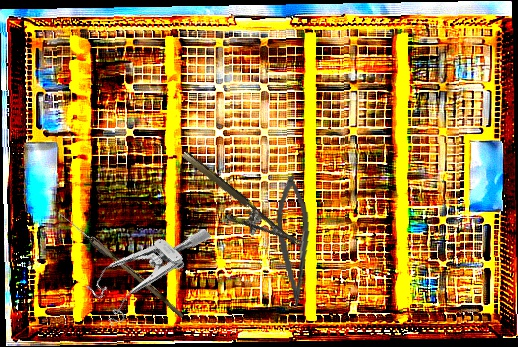Micro Scissor: (271, 173, 319, 310)
Needle Holder: (168, 149, 303, 265)
Speculum: (77, 196, 213, 336)
Surgical Spoon: (55, 209, 187, 319)
